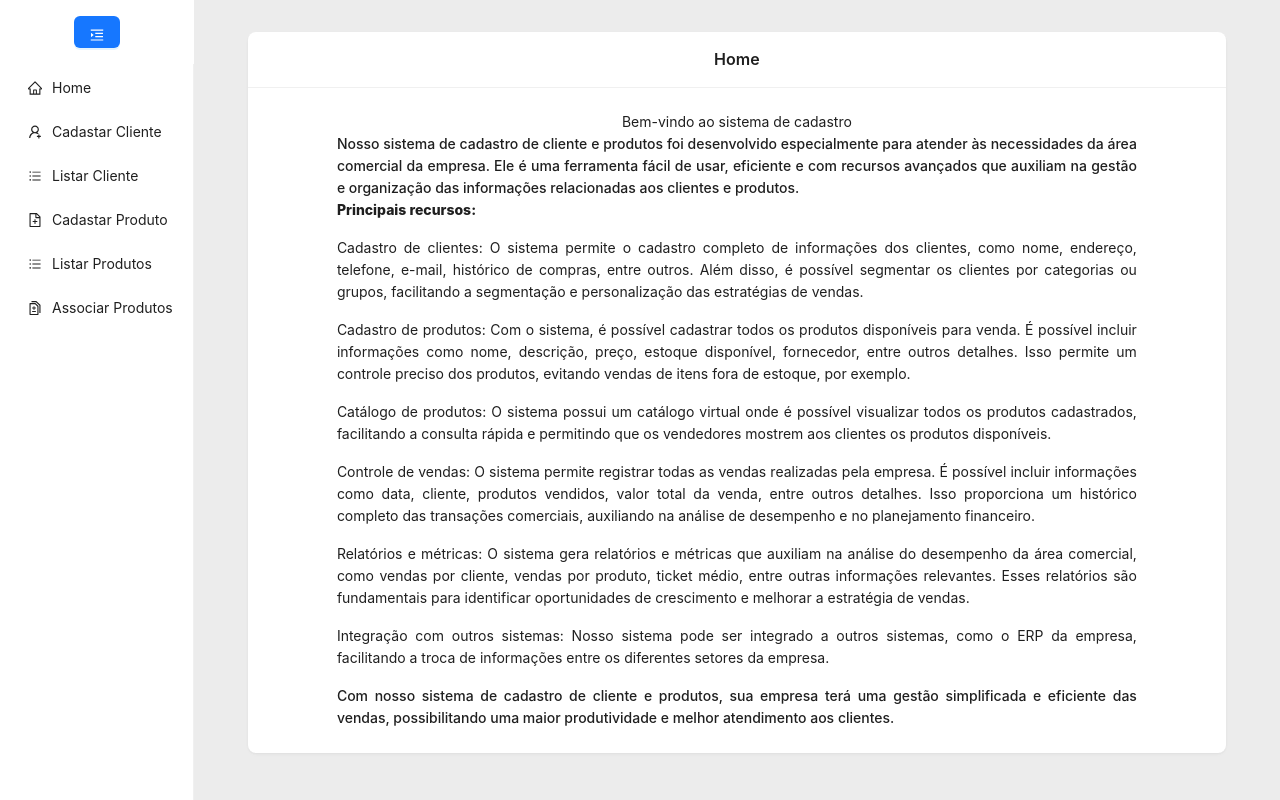
Test: Testing the customer registry page › Checking if it is possible to insert a product without a name and document
Click the menu item "Cadastar Cliente": (95, 132) [28,123,162,140]
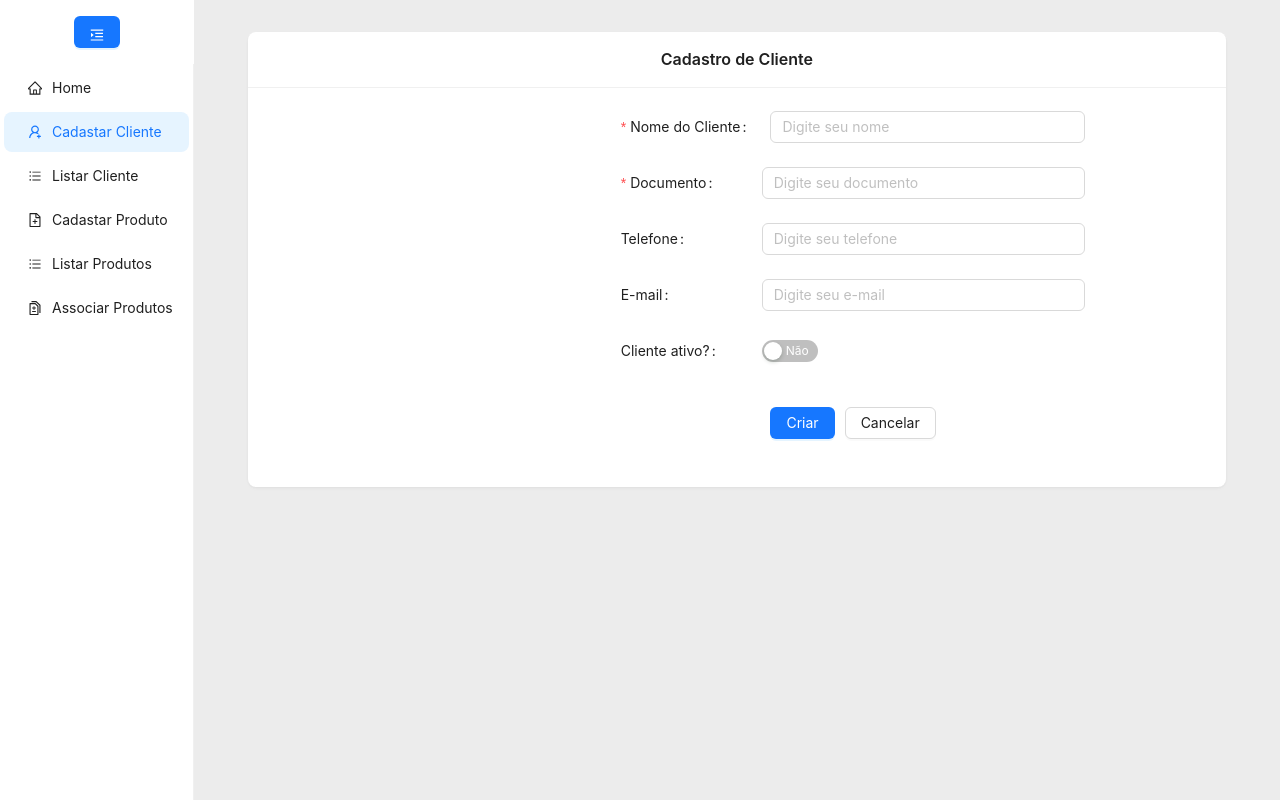
In the field with test id "form-email": (924, 295) [762,279,1086,311], type "joaosilva@gmail.com"
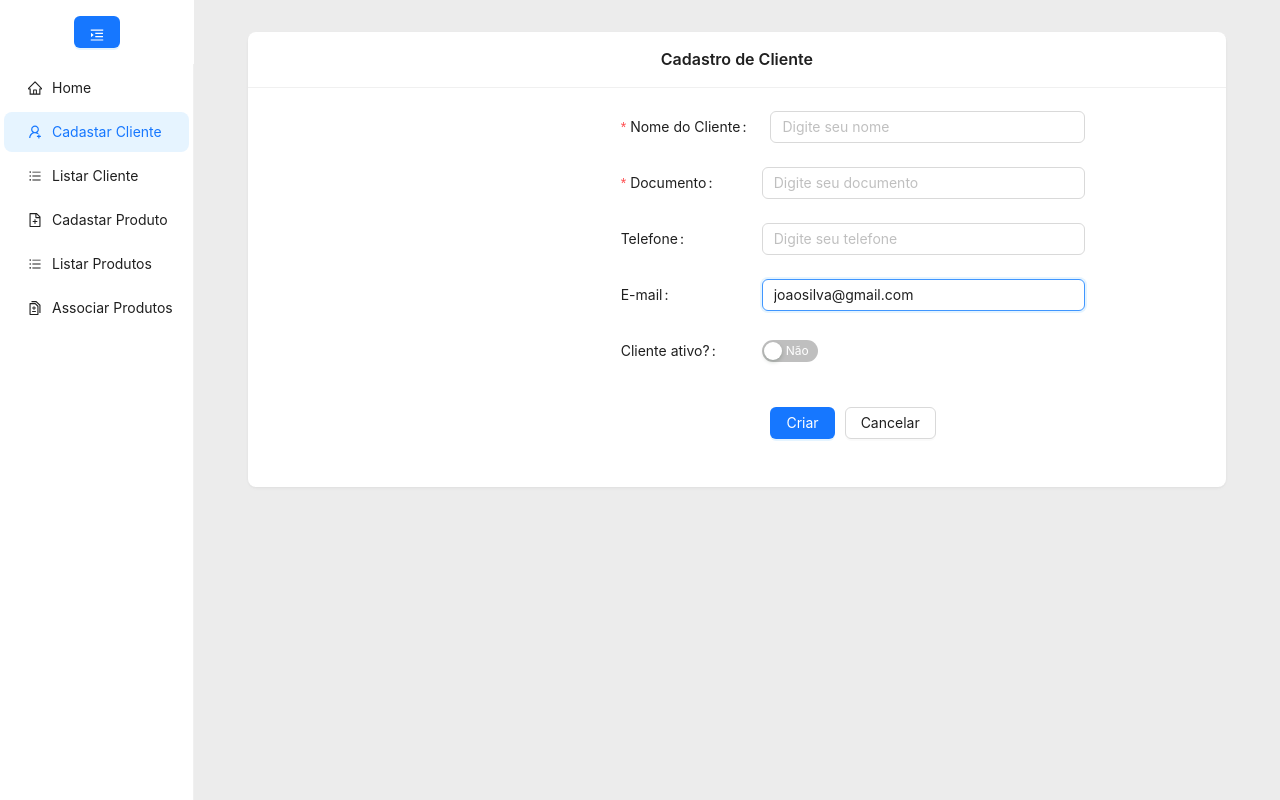
In the field with test id "form-phone": (924, 239) [762,223,1086,255], type "14 998523514"
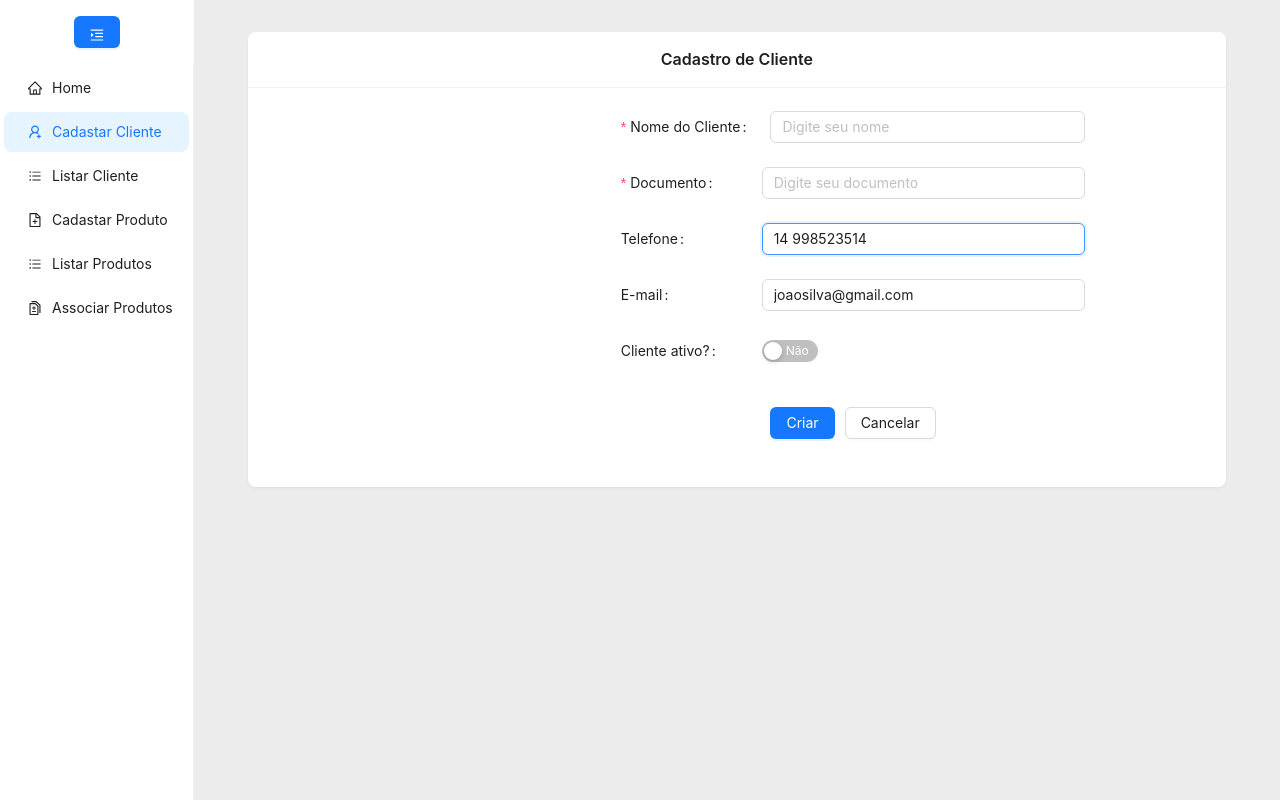
Click the switch with test id "form-active": (790, 351) [762,340,818,362]
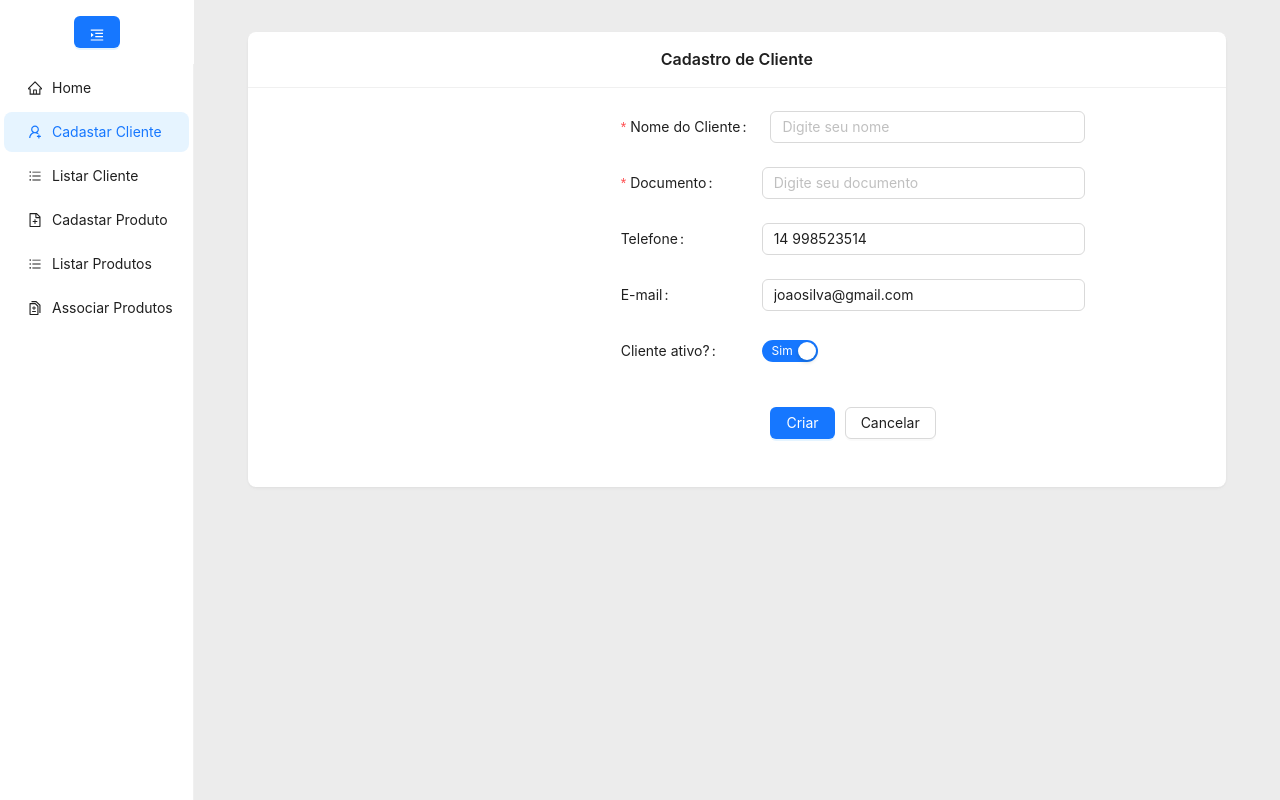
Click the button with test id "btn-customer-create": (803, 423) [771,407,835,439]
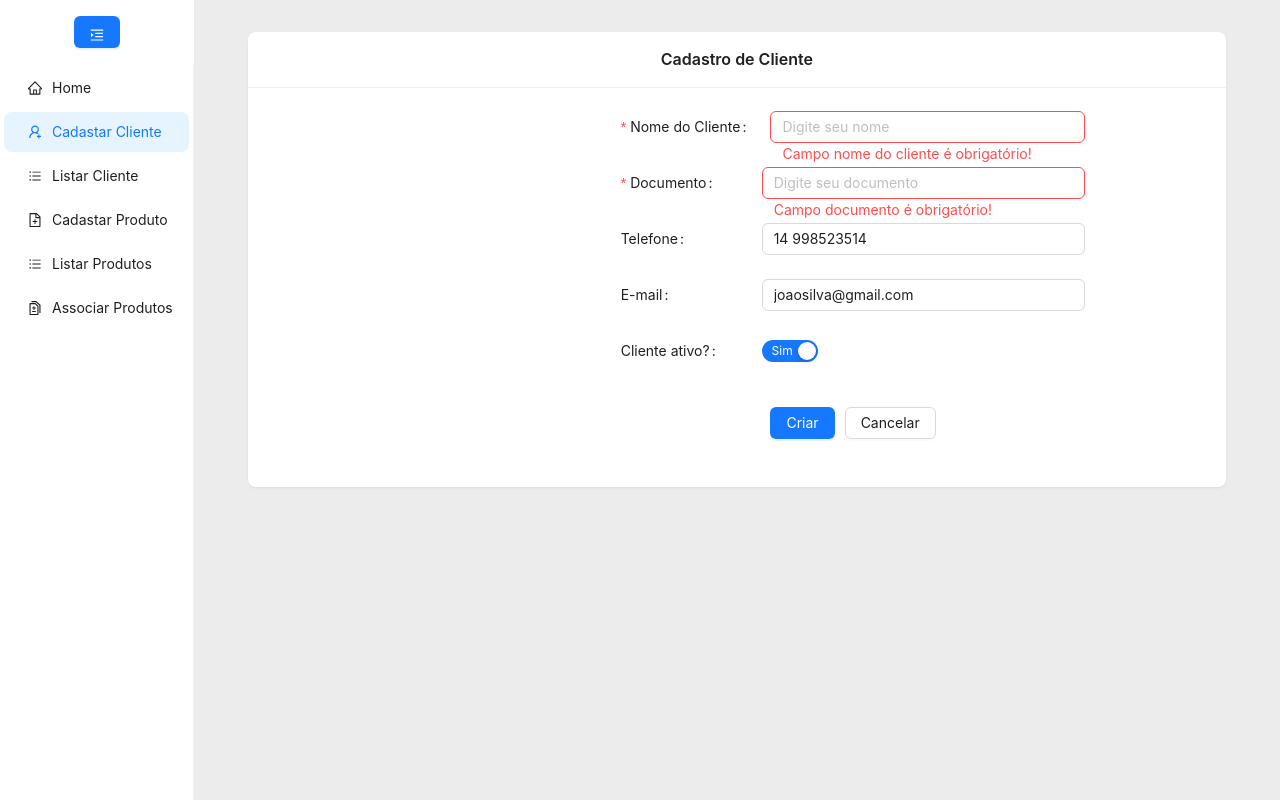
expect the text "Campo nome do cliente é obrigatório!" is shown: met, box [782,143,1073,165]
expect the text "Campo documento é obrigatório!" is shown: met, box [774,201,992,218]
